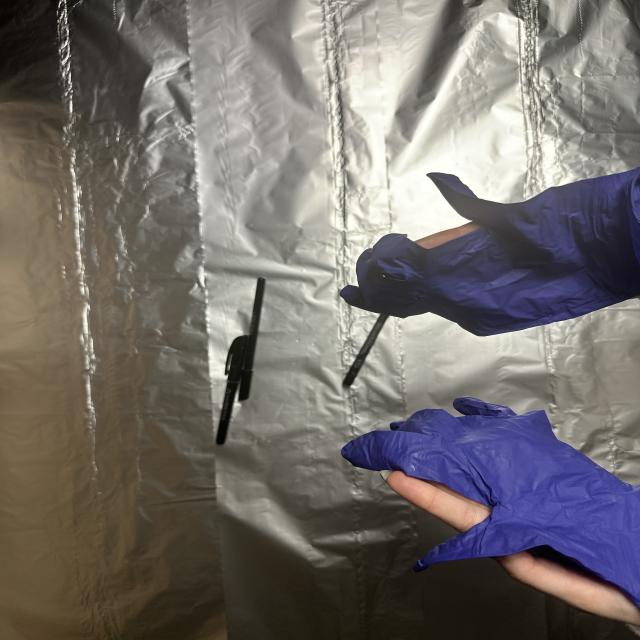glove_not_fitted: (335, 393, 640, 640), (334, 158, 640, 344)
